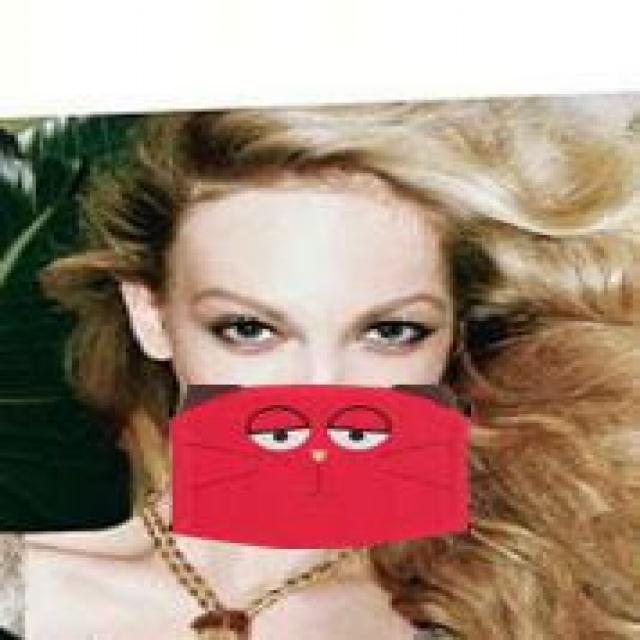mask: (86, 135, 532, 543)
